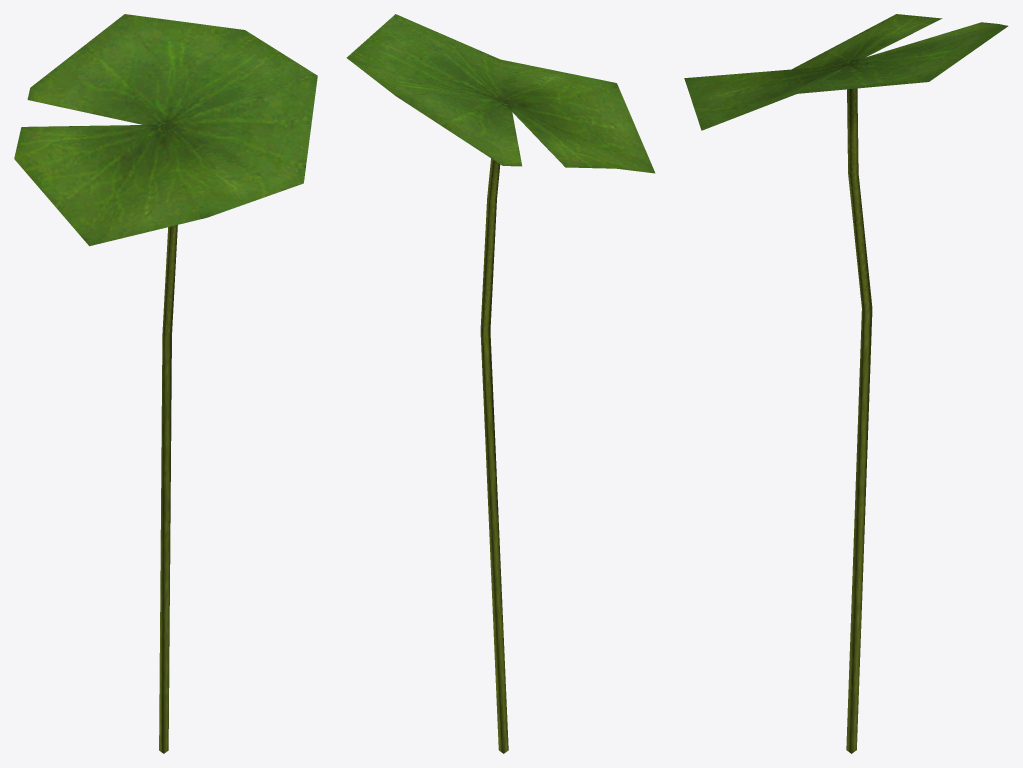
Rendered from lotusflower_02.glb.
3 renders of one model, left to right at view 1: azimuth 30°, elevation 25°; view 2: azimuth 150°, elevation 25°; view 3: azimuth 270°, elevation 25°, orthographic. The views are drawn at different scales.
Parts seen in each view (by area): view 1: lotusflower_02; view 2: lotusflower_02; view 3: lotusflower_02.
Part boxes in pixels (<box>): lotusflower_02: <box>14,14,317,753</box>; lotusflower_02: <box>346,14,655,753</box>; lotusflower_02: <box>684,14,1008,753</box>.
Size of the model in its own units: 0.6729 by 1.68 by 0.6669.
1 material, 1 textured.
